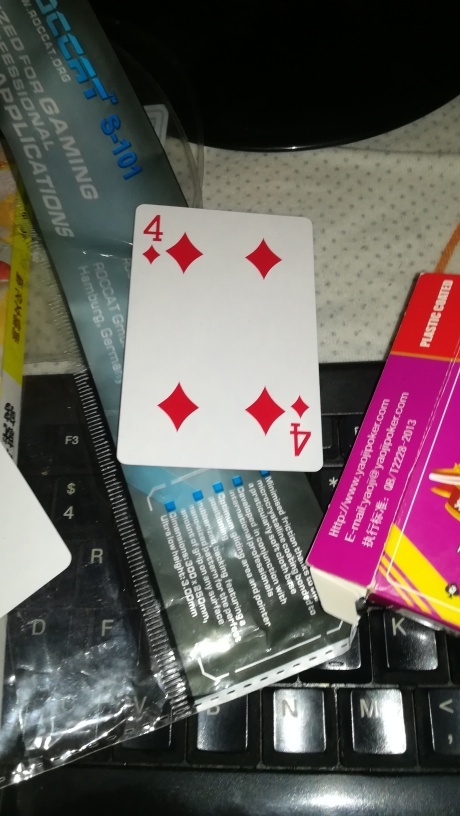fk 4: (114, 200, 326, 478)
